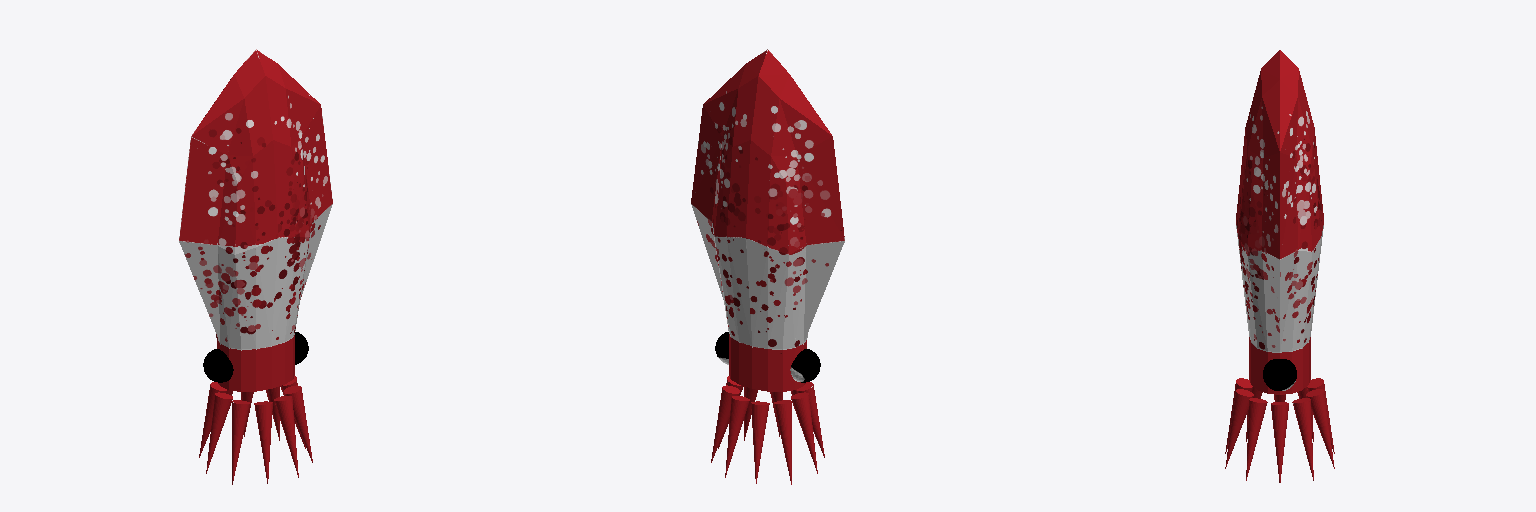
3 views of the same model, side by side, from view 1: azimuth 30°, elevation 25°; view 2: azimuth 150°, elevation 25°; view 3: azimuth 270°, elevation 25° (orthographic).
Parts seen in each view (by area): view 1: 球; view 2: 球; view 3: 球.
Part boxes in pixels (x1,y1,x2,y2): 球: (179, 49, 332, 484); 球: (691, 49, 844, 484); 球: (1225, 50, 1334, 482).
Bounding box in the file's own units: 0.474 × 1.22 × 0.2928.
Materials: 1 (1 with a texture image).